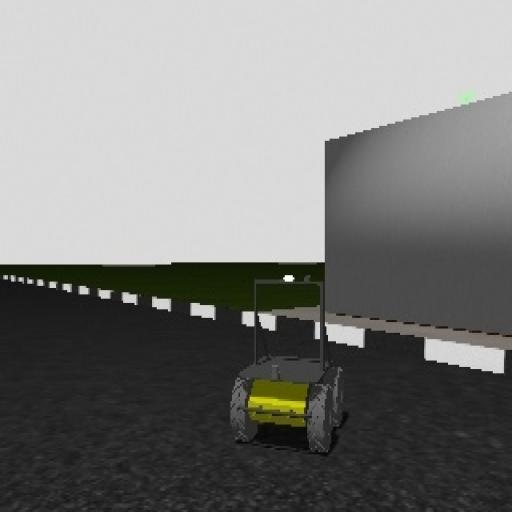huskya200: (215, 266, 357, 467)
